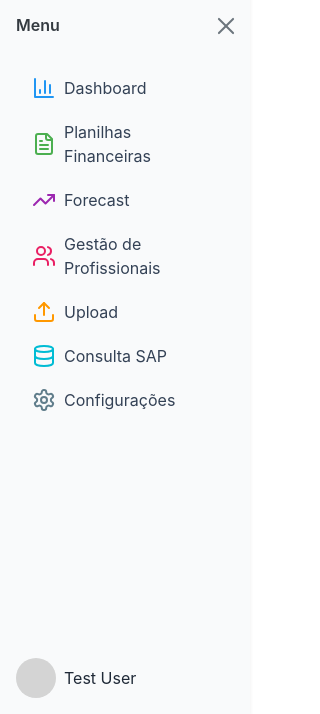
Test: Sidebar Component › toggles sidebar when hamburger button is clicked
Expected: the heading "Menu" is shown, [16,16,60,36]
Click the button: (226, 26) [218,18,234,34]
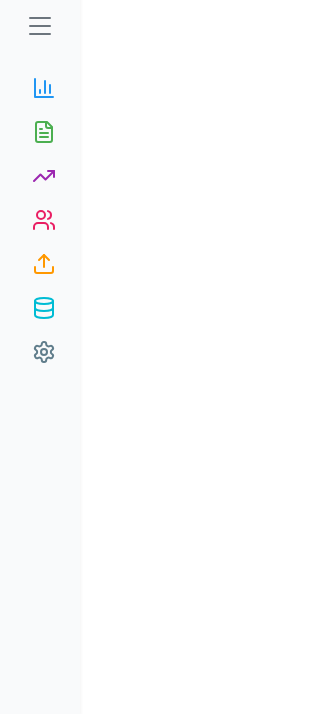
Expected: the heading "Menu" is gone
